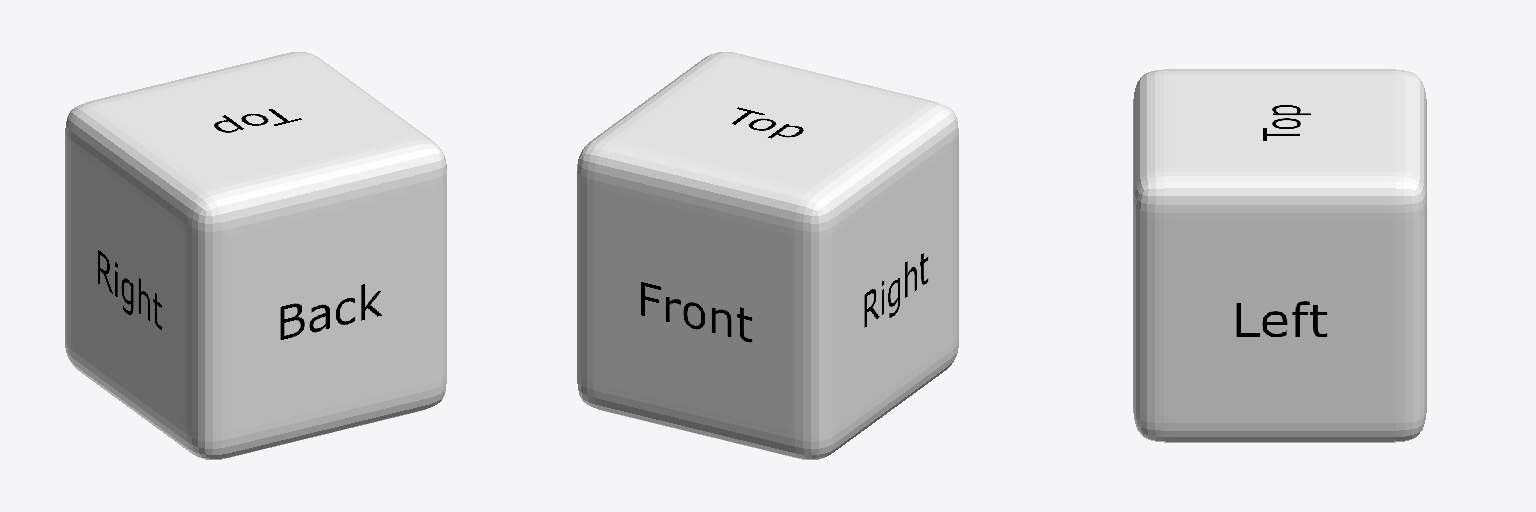
The picture shows the model from 3 angles: view 1: azimuth 30°, elevation 25°; view 2: azimuth 150°, elevation 25°; view 3: azimuth 270°, elevation 25°; orthographic projection.
Visible parts, largest first — view 1: Back, Right, Top, Space, BackRight, BackTop, RightTop, BackBottom, BackLeft, RightBottom, BackRightTop, LeftTop (+6 smaller); view 2: Front, Right, Top, Space, FrontRight, FrontTop, RightTop, FrontBottom, FrontLeft, RightBottom, FrontRightTop, LeftTop (+6 smaller); view 3: Left, Top, LeftTop, Space, FrontLeft, BackLeft, LeftBottom, FrontTop, BackTop, FrontLeftTop, BackLeftTop, RightTop (+2 smaller).
Part boxes in pixels (left/top/right/bottom): Back: left=242, top=197, right=416, bottom=421; Right: left=78, top=159, right=178, bottom=414; Top: left=119, top=65, right=392, bottom=180; Space: left=65, top=54, right=446, bottom=457; BackRight: left=183, top=236, right=235, bottom=427; BackTop: left=222, top=141, right=416, bottom=232; RightTop: left=78, top=109, right=212, bottom=225; BackBottom: left=237, top=386, right=416, bottom=455; BackLeft: left=423, top=186, right=446, bottom=377; RightBottom: left=78, top=348, right=183, bottom=447; BackRightTop: left=183, top=185, right=235, bottom=238; LeftTop: left=299, top=60, right=425, bottom=136; Front: left=607, top=197, right=781, bottom=421; Right: left=845, top=159, right=945, bottom=414; Top: left=631, top=65, right=904, bottom=180; Space: left=577, top=54, right=958, bottom=457; FrontRight: left=788, top=236, right=840, bottom=427; FrontTop: left=607, top=141, right=801, bottom=232; RightTop: left=811, top=109, right=945, bottom=225; FrontBottom: left=607, top=386, right=786, bottom=455; FrontLeft: left=577, top=186, right=600, bottom=377; RightBottom: left=840, top=348, right=945, bottom=447; FrontRightTop: left=788, top=185, right=840, bottom=238; LeftTop: left=598, top=60, right=724, bottom=136; Left: left=1179, top=227, right=1380, bottom=409; Top: left=1179, top=80, right=1380, bottom=164; LeftTop: left=1179, top=168, right=1380, bottom=220; Space: left=1133, top=69, right=1426, bottom=442; FrontLeft: left=1388, top=215, right=1426, bottom=409; BackLeft: left=1133, top=215, right=1171, bottom=409; LeftBottom: left=1179, top=416, right=1380, bottom=442; FrontTop: left=1388, top=80, right=1426, bottom=189; BackTop: left=1133, top=80, right=1171, bottom=189; FrontLeftTop: left=1388, top=168, right=1426, bottom=220; BackLeftTop: left=1133, top=168, right=1171, bottom=220; RightTop: left=1179, top=69, right=1380, bottom=76.
Bounding box in the file's own units: 4 × 4 × 4.
7 materials, 6 textured.